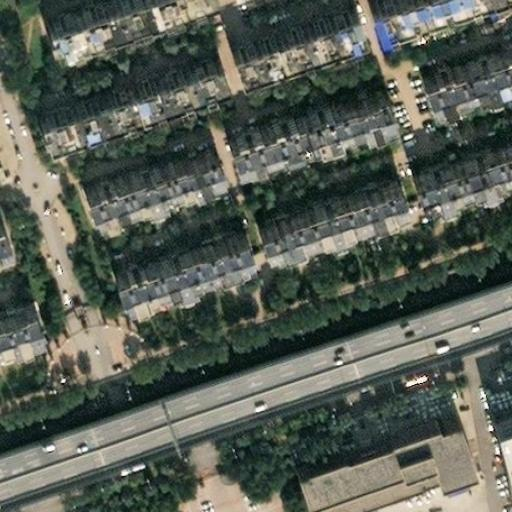building: (28, 46, 215, 134), (288, 395, 467, 484), (223, 83, 387, 161), (75, 138, 221, 211), (107, 223, 243, 295), (299, 442, 432, 512), (226, 0, 363, 66), (247, 175, 384, 240), (403, 29, 512, 96), (408, 128, 512, 189), (492, 410, 512, 474), (0, 202, 22, 258), (0, 298, 28, 332), (495, 61, 512, 108)
